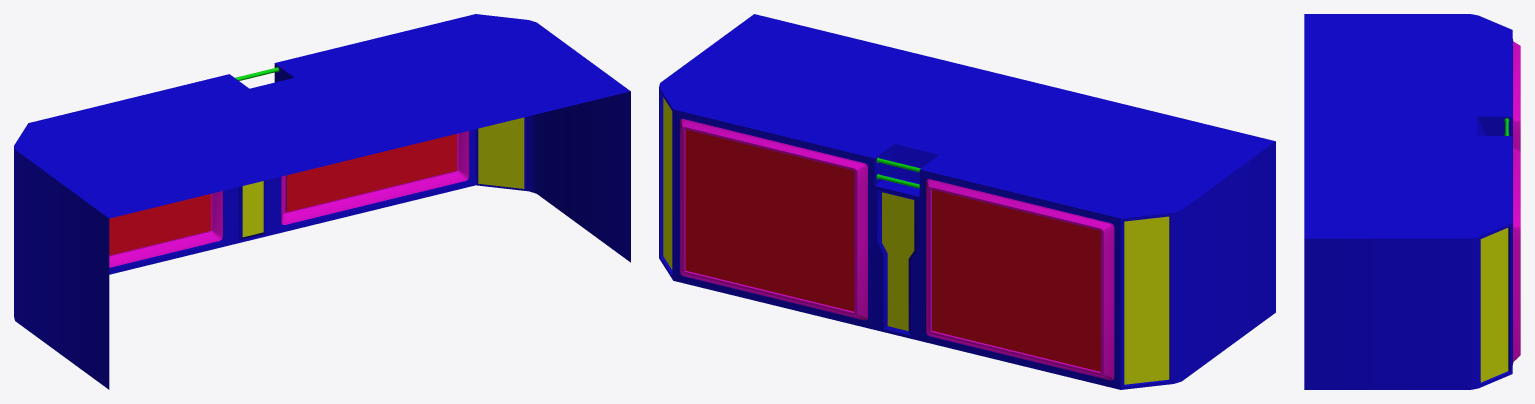
File: grille_aeration.fbx
The picture shows the model from 3 angles, left to right: view 1: azimuth 30°, elevation 25°; view 2: azimuth 150°, elevation 25°; view 3: azimuth 270°, elevation 25°; orthographic projection. The views are drawn at different scales.
Parts seen in each view (by area): view 1: grille_aeration; view 2: grille_aeration; view 3: grille_aeration.
Boxes of the visible parts, x1,y1,x2,y2 form: grille_aeration: (14,14,630,389); grille_aeration: (659,14,1275,389); grille_aeration: (1304,14,1520,389).
Bounding box in the file's own units: 86.25 × 27.08 × 35.1.
